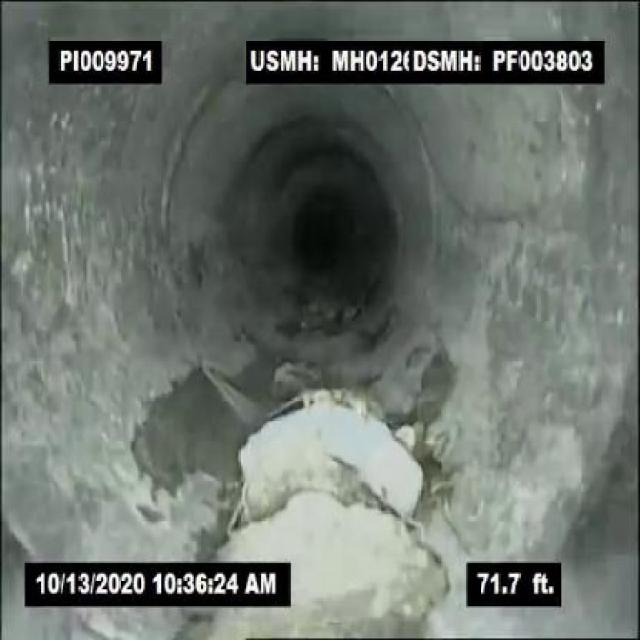Debris: (187, 354, 458, 561)
